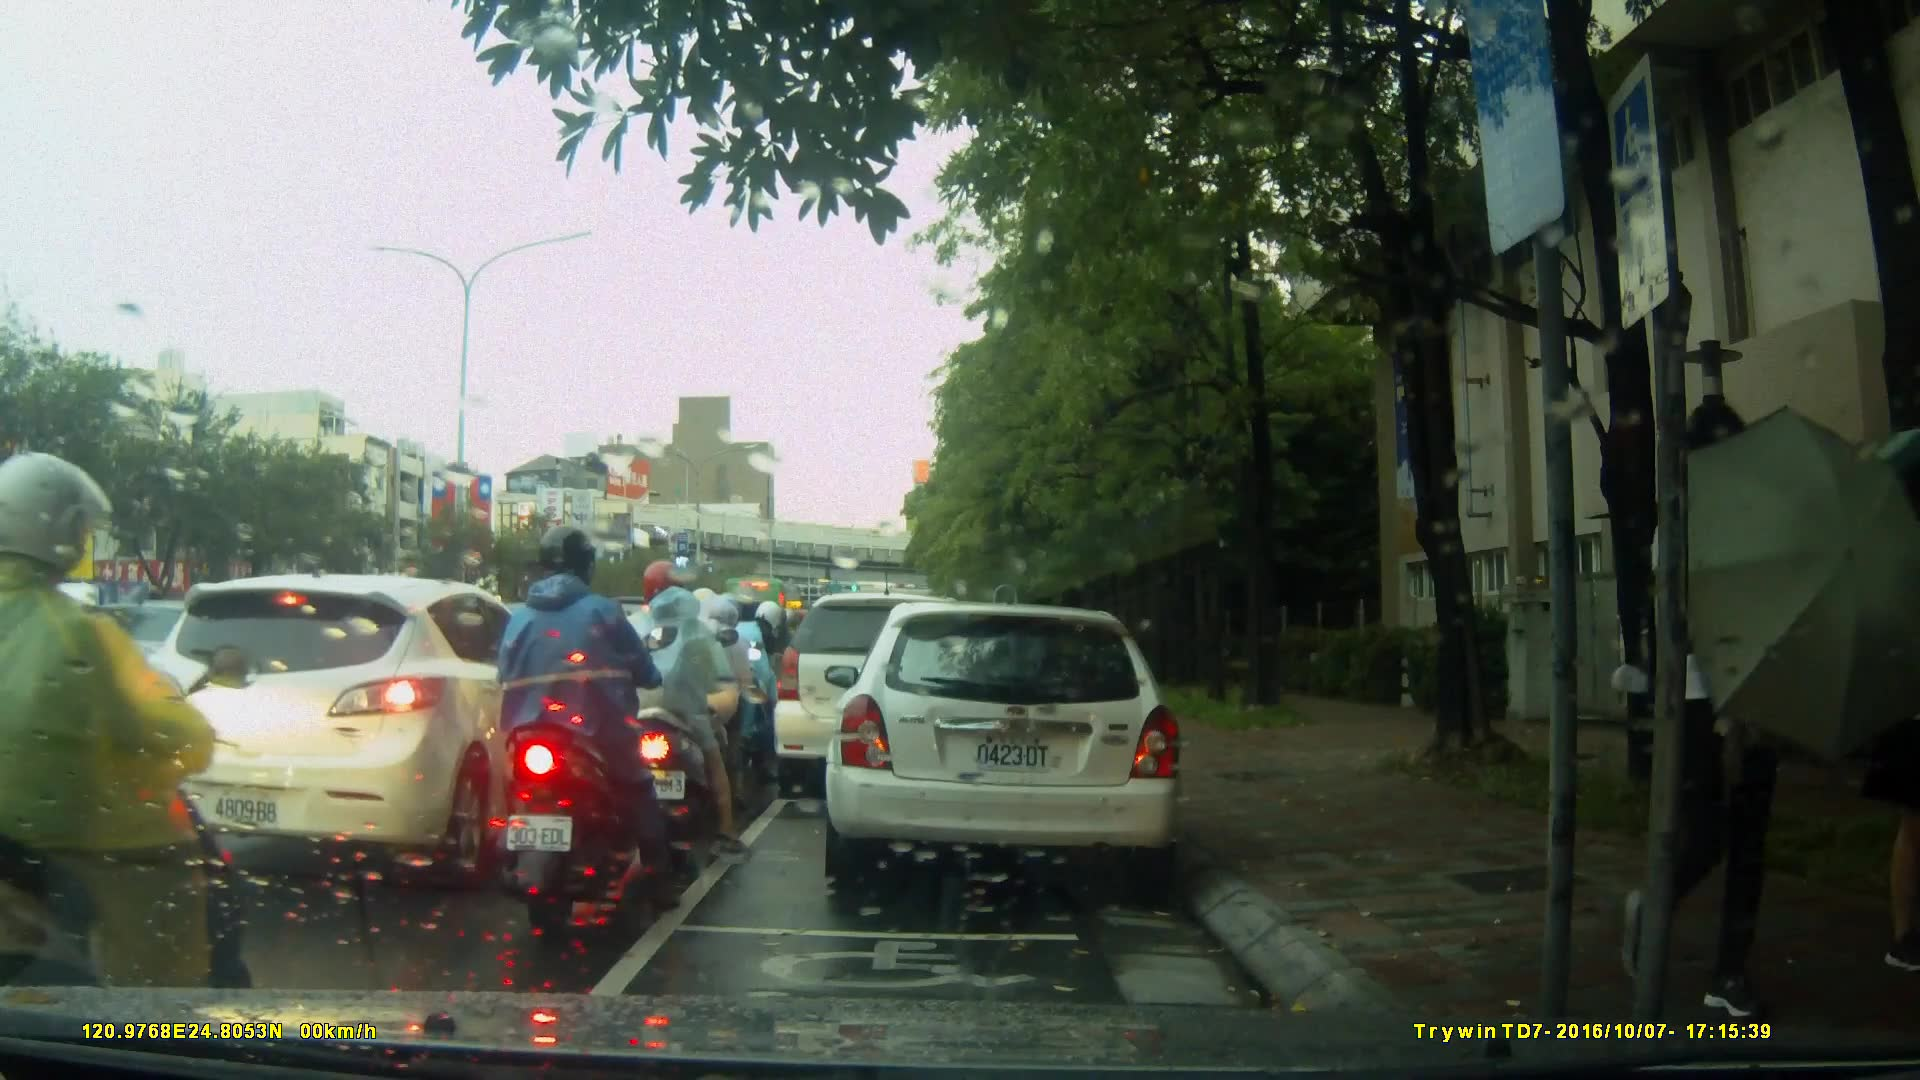pedestrian: (1632, 422, 1794, 1001)
rider: (1, 460, 278, 1078), (489, 523, 680, 929), (596, 560, 742, 863), (642, 581, 764, 823), (717, 594, 788, 767)
vehicle: (113, 570, 588, 884), (822, 604, 1188, 883), (774, 595, 995, 802), (31, 600, 269, 734)
